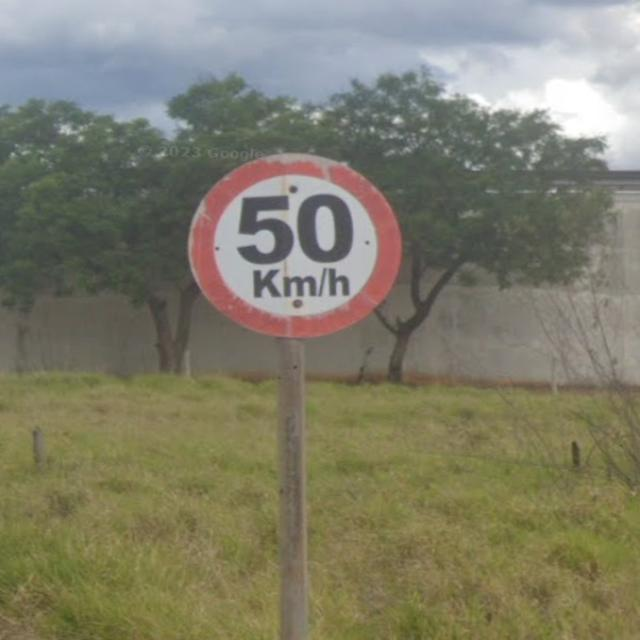speed limit: (155, 130, 419, 359)
